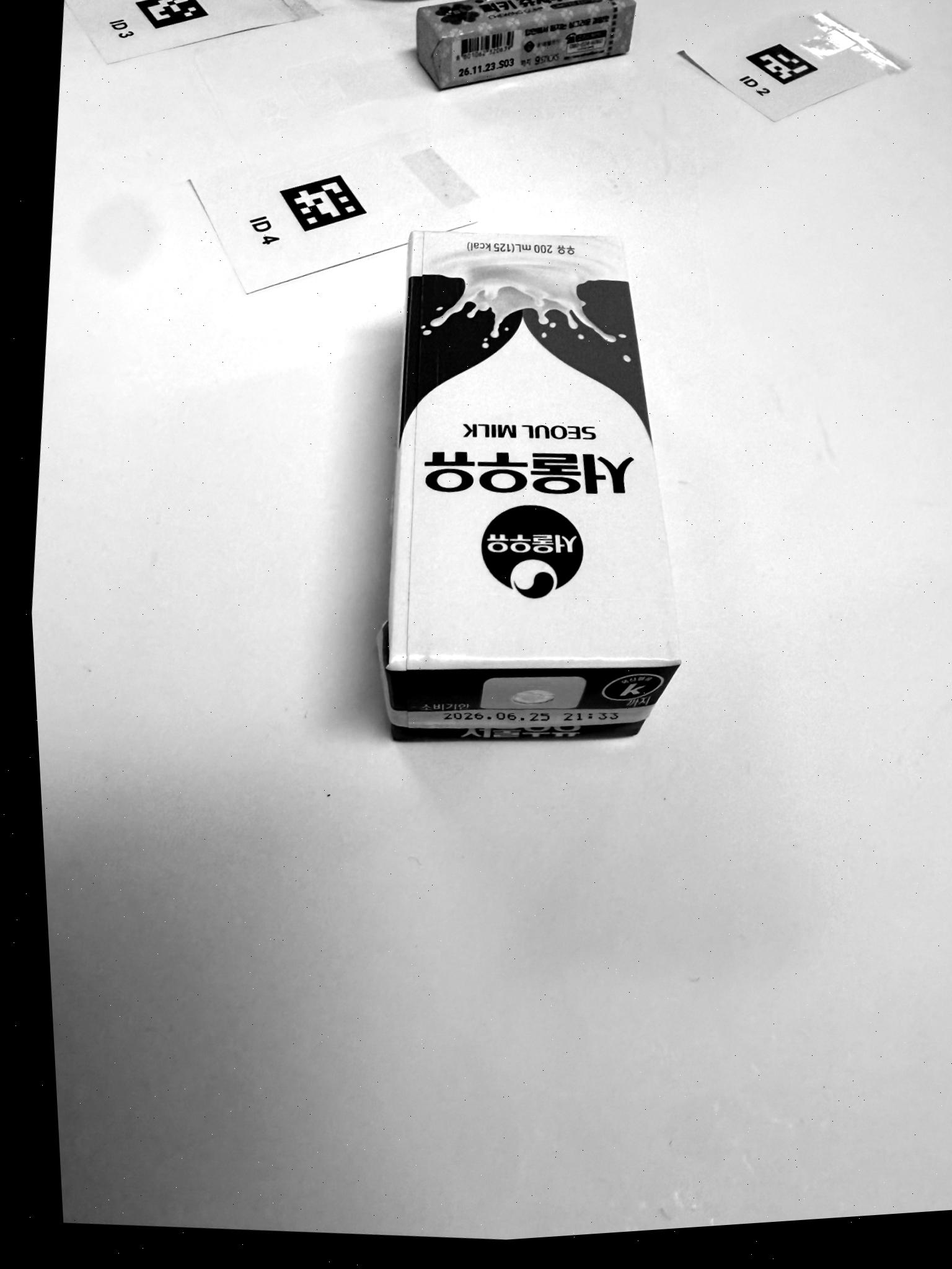milk_green: (378, 231, 679, 742)
